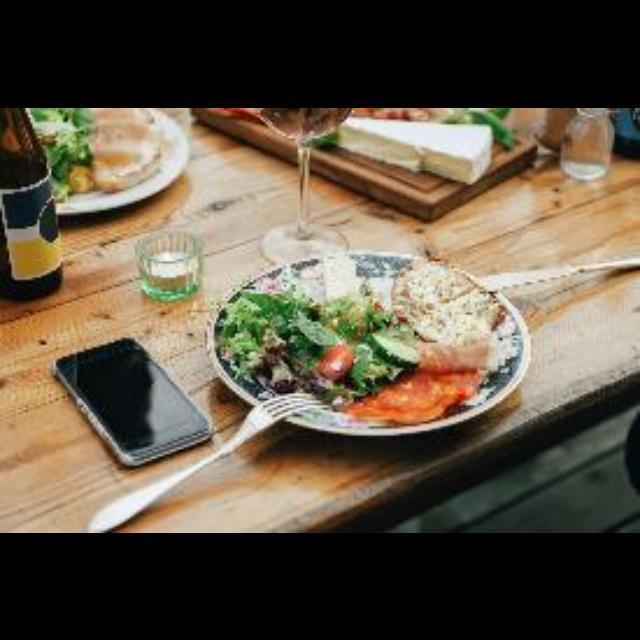PhoneUse: (29, 340, 217, 466)
